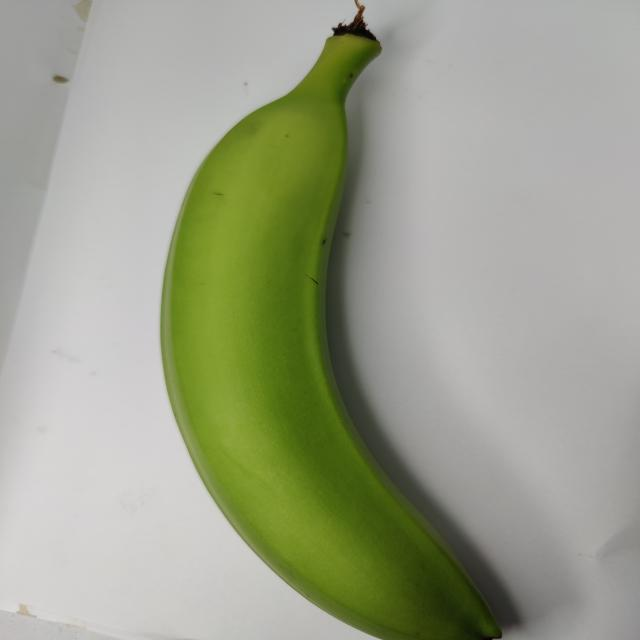raw: (115, 0, 585, 640)
